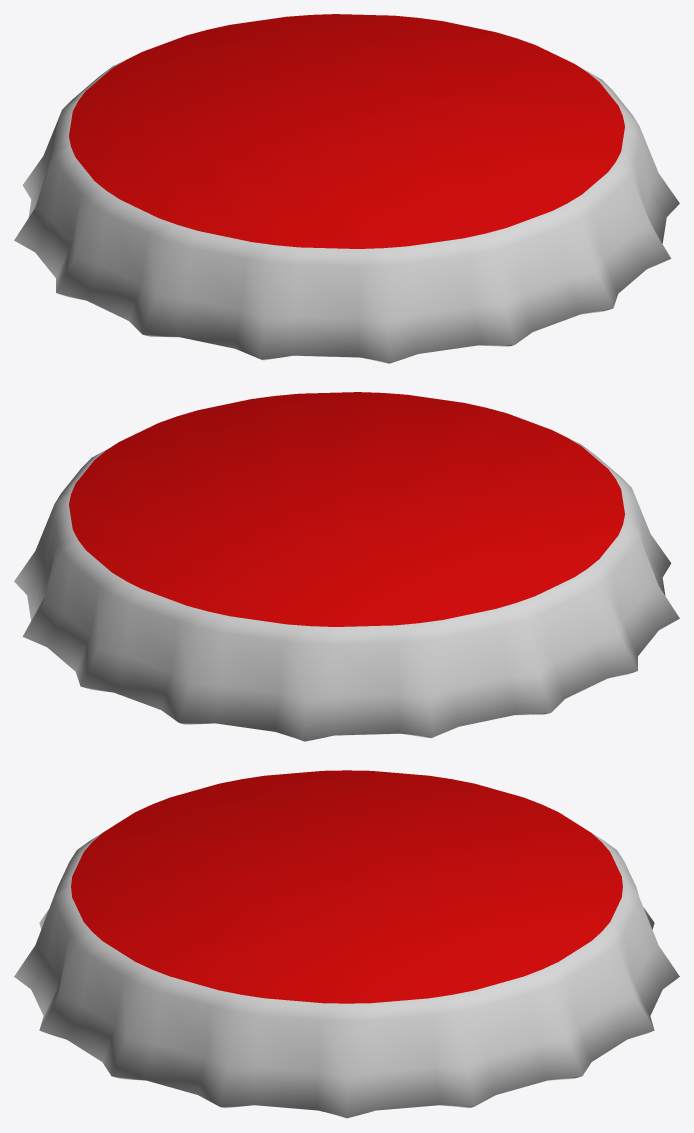
The model's file is BeerClown.fbx.
The picture shows the model from 3 angles, top to bottom: view 1: azimuth 30°, elevation 25°; view 2: azimuth 150°, elevation 25°; view 3: azimuth 270°, elevation 25°; orthographic projection.
Parts seen in each view (by area): view 1: 円; view 2: 円; view 3: 円.
Part boxes in pixels (x1,y1,x2,y2): 円: (14, 14, 679, 363); 円: (14, 392, 679, 741); 円: (14, 770, 679, 1118).
Bounding box in the file's own units: 184 × 29.36 × 184.
